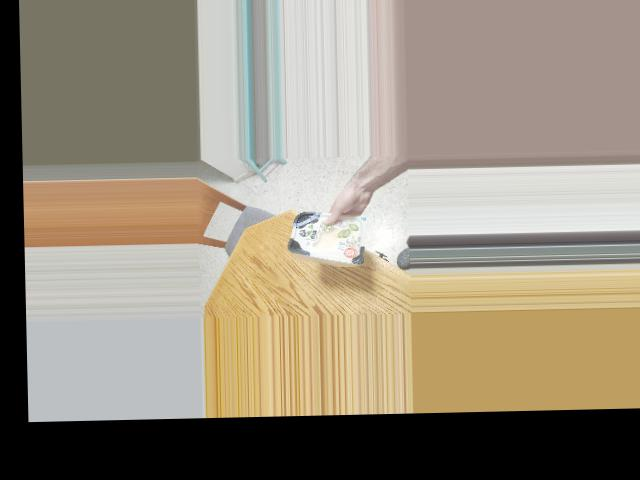cheese: (295, 203, 353, 266)
